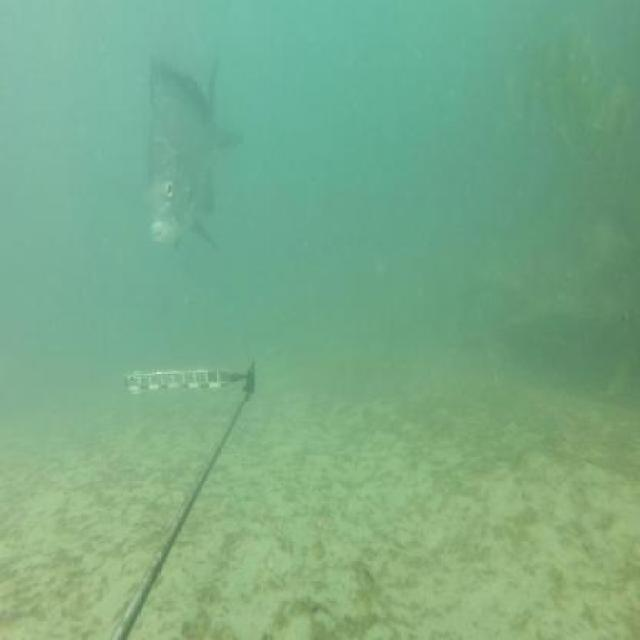acanthopagrus_palmaris: (146, 53, 246, 256)
